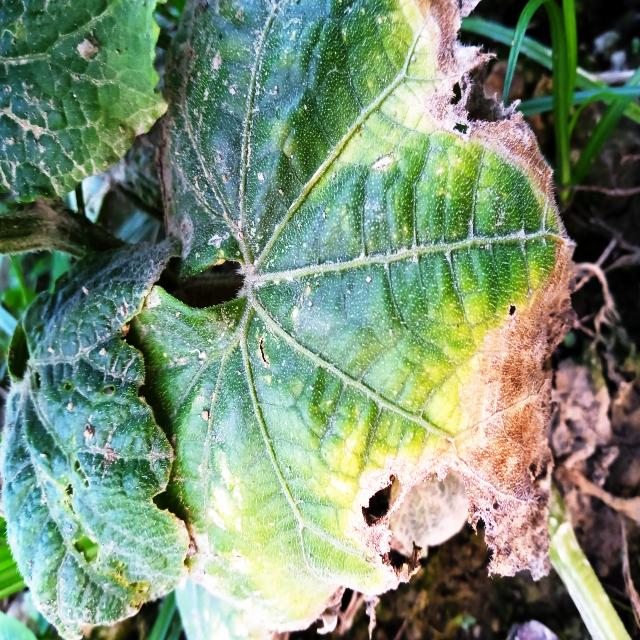Gummy-Stem-Blight: (348, 0, 580, 595)
